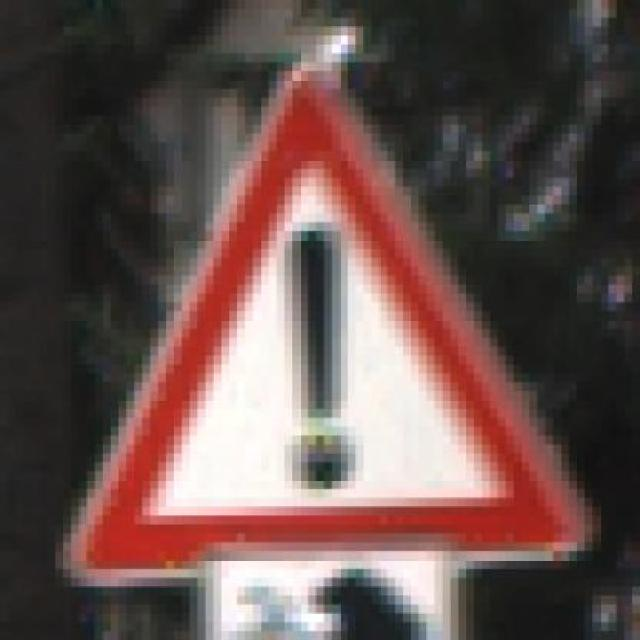Attention Please-: (46, 74, 600, 589)
